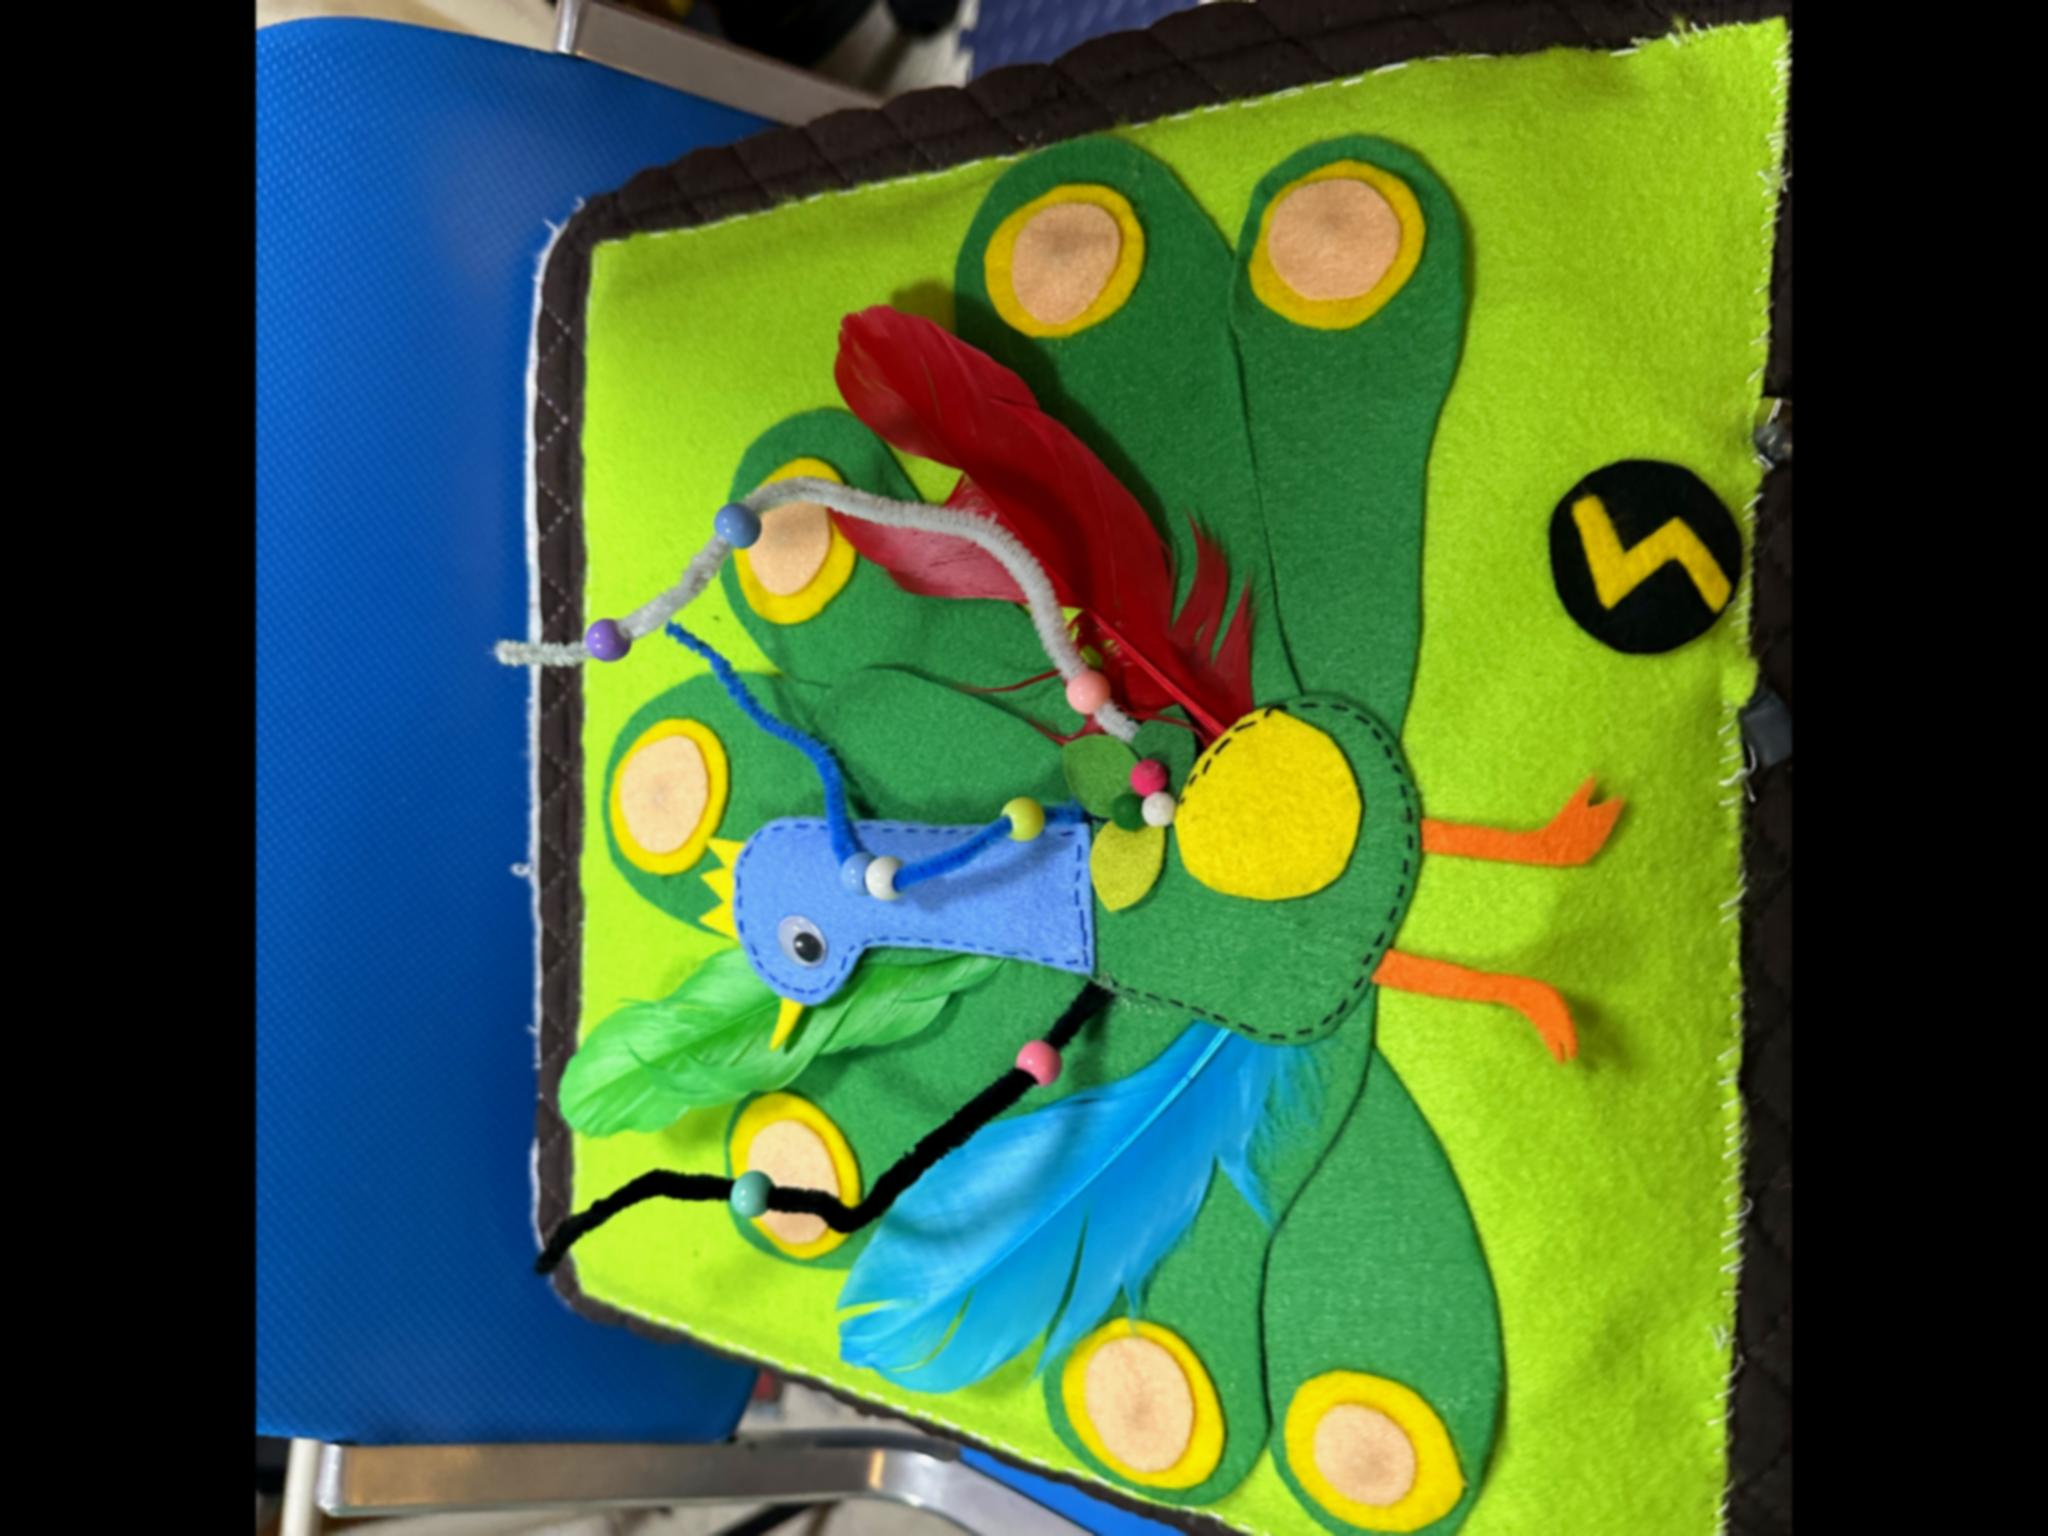bead: (692, 495, 769, 557), (576, 597, 634, 670), (1018, 1028, 1069, 1099), (719, 1165, 777, 1223), (1059, 660, 1109, 718), (992, 799, 1051, 847), (829, 845, 869, 892), (868, 855, 910, 895)
